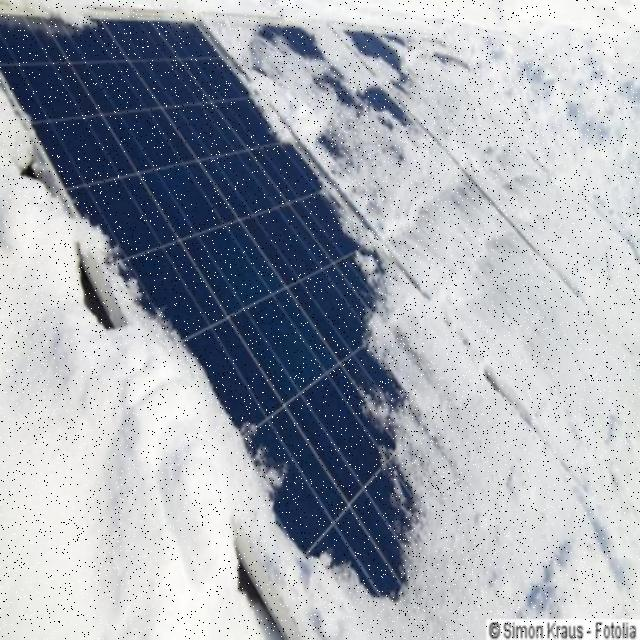snow covered: (1, 22, 557, 631)
